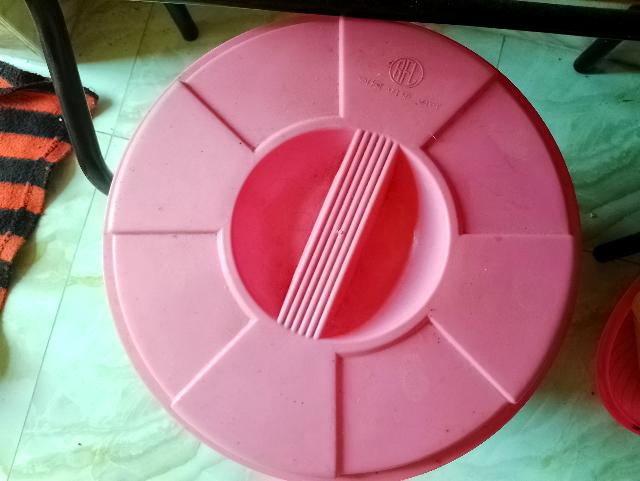hardplastic: (95, 19, 592, 471)
